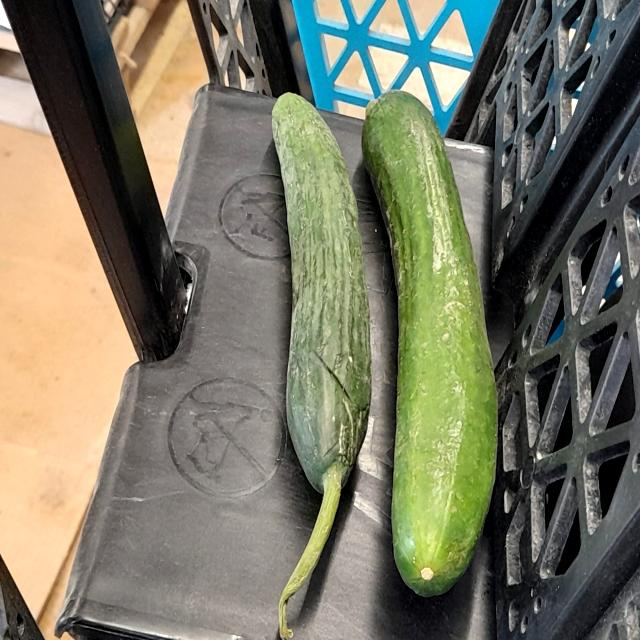cucumber: (358, 72, 512, 604), (254, 81, 377, 608)
